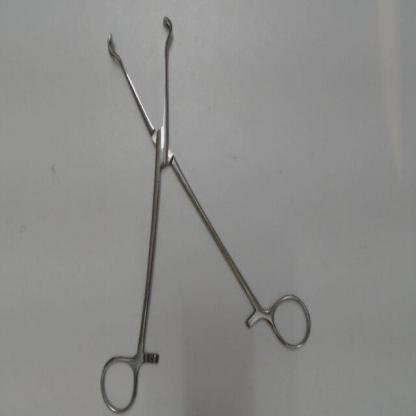8 Babcock Tissue Forceps: (94, 14, 318, 415)
